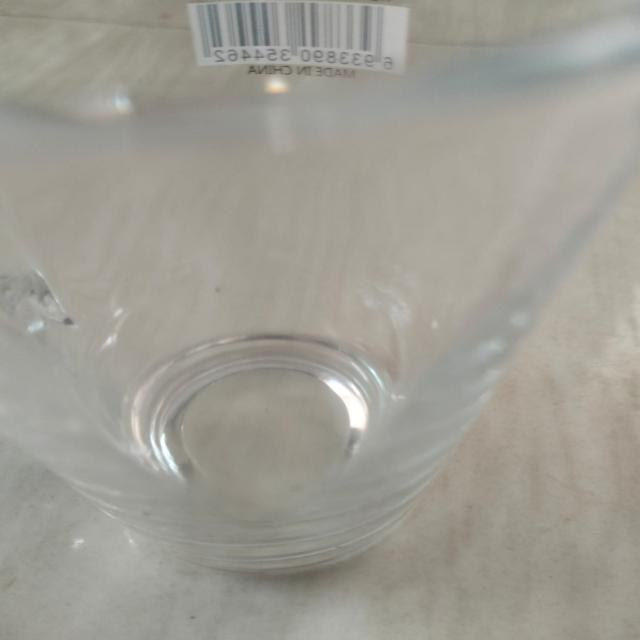glass-VX4N: (0, 1, 632, 572)
